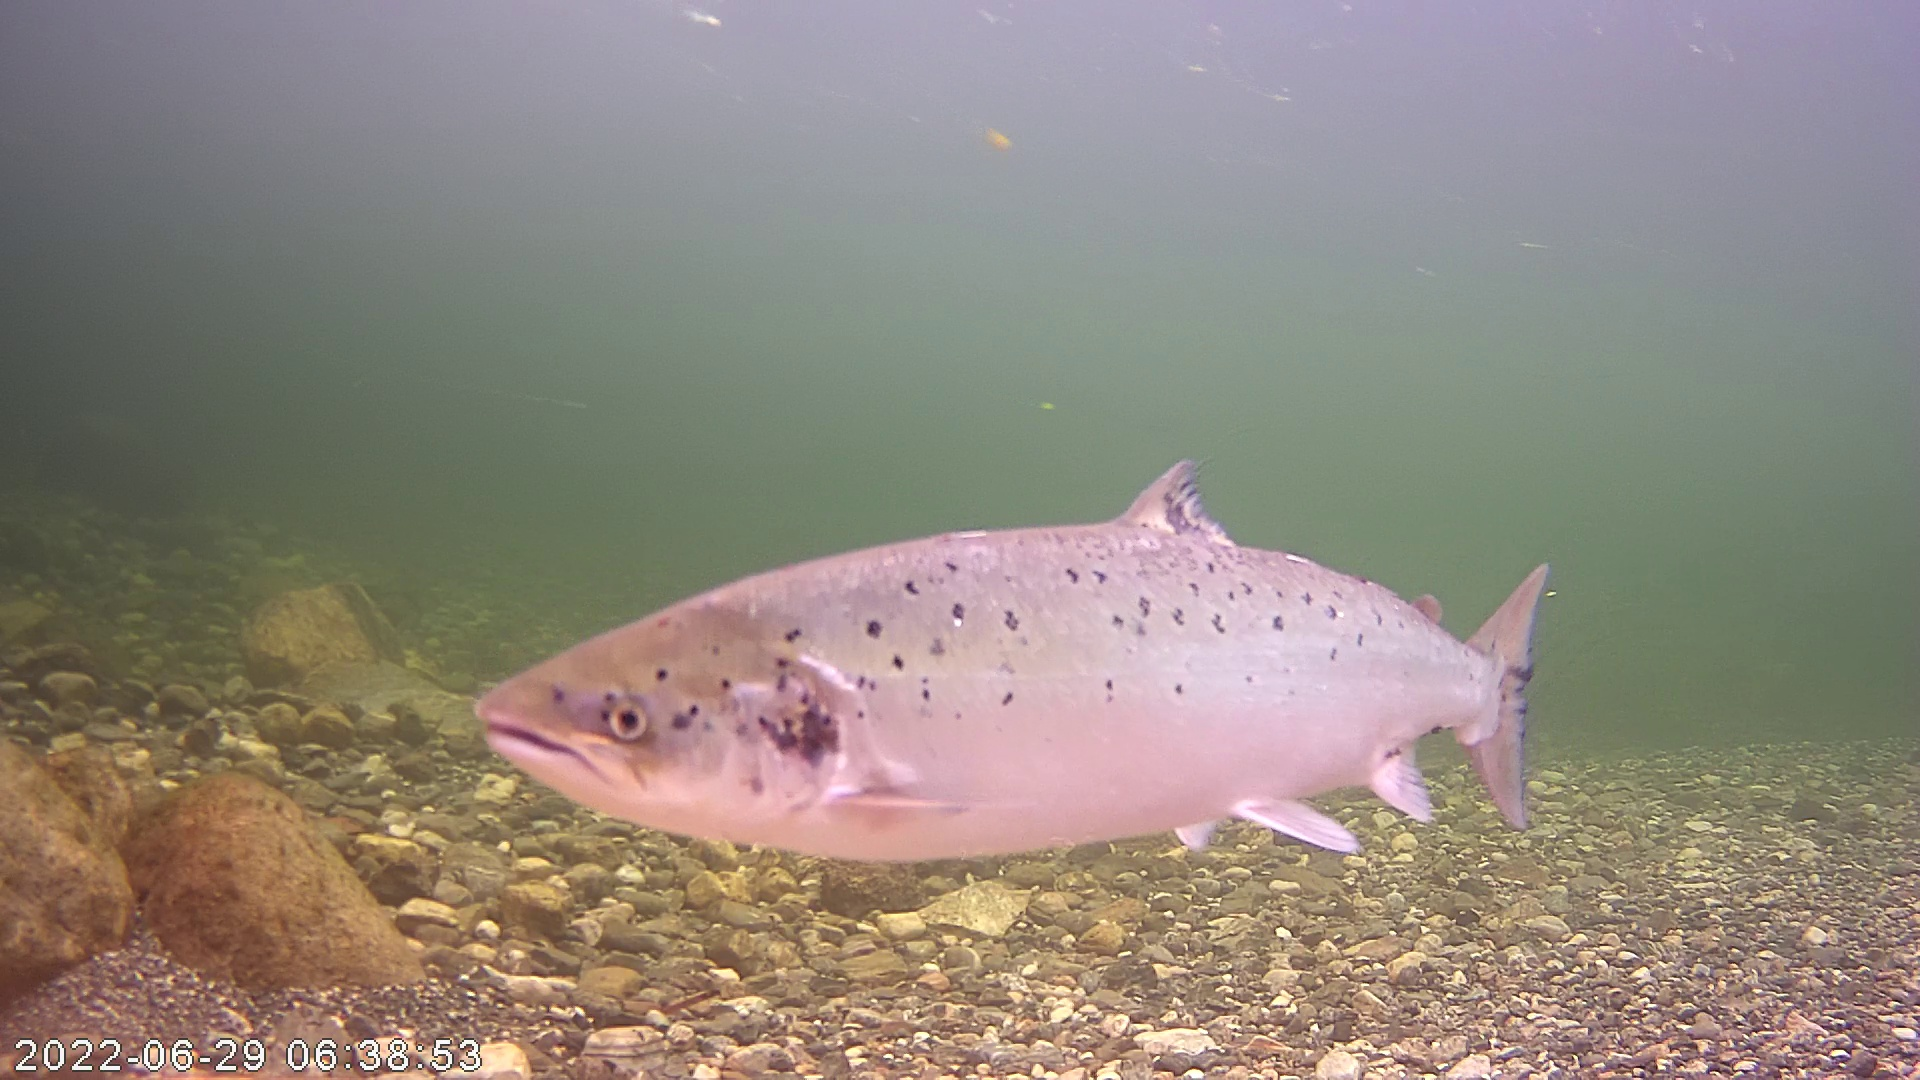salmon: (485, 364, 1557, 870)
